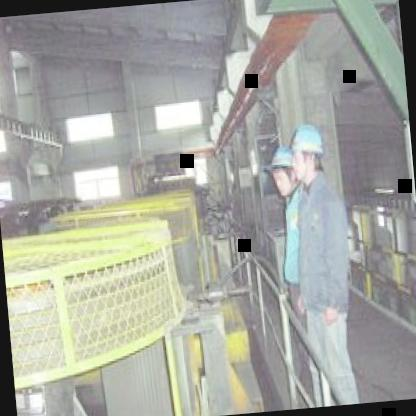helmet: (290, 117, 328, 186), (268, 142, 298, 196)
